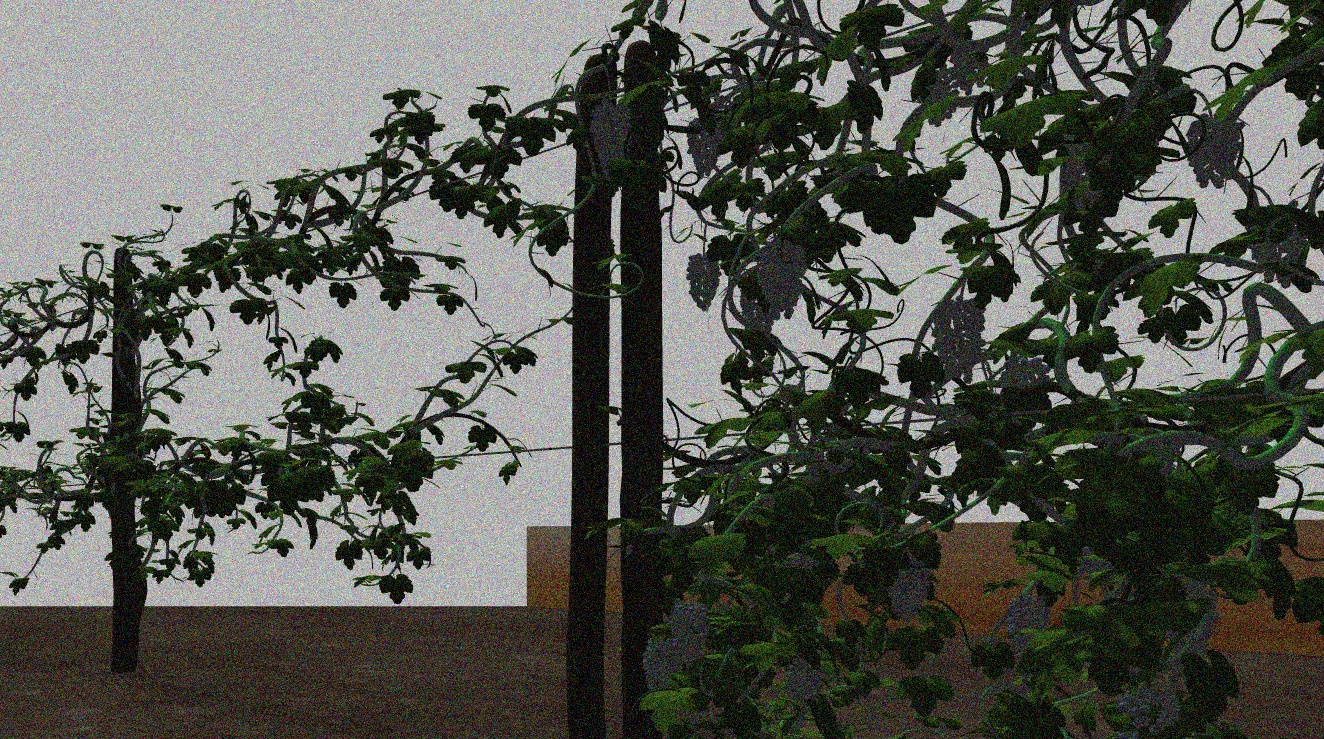grape: (931, 296, 988, 385), (1185, 113, 1244, 191), (757, 239, 807, 321), (1119, 688, 1181, 739), (886, 557, 932, 624), (589, 102, 632, 173), (1007, 592, 1052, 657), (669, 600, 712, 665), (686, 116, 726, 179), (684, 251, 722, 312), (783, 655, 826, 705), (642, 635, 675, 692)
